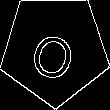O_N: (28, 19, 81, 80)
